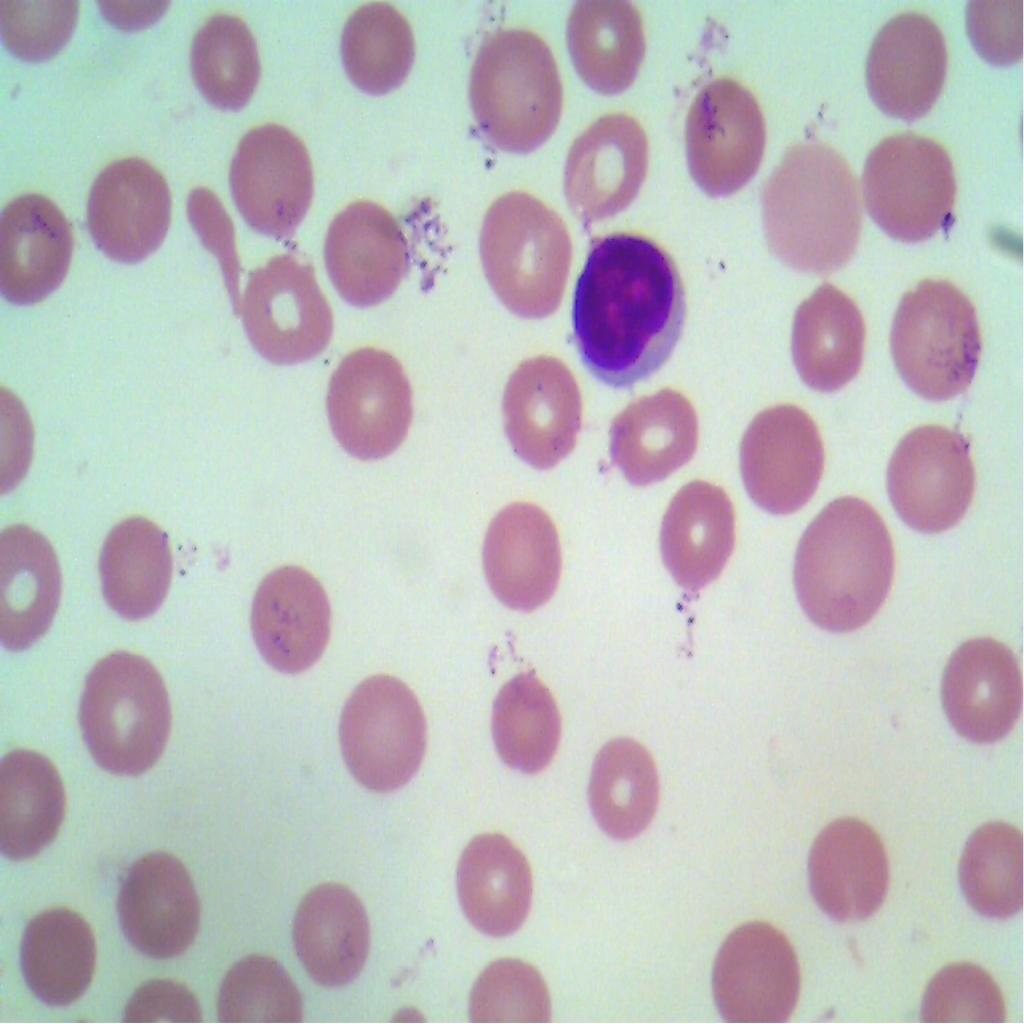Eritrosit: (758, 130, 868, 284), (786, 500, 896, 642), (670, 62, 770, 208), (239, 550, 341, 688), (459, 24, 563, 158), (859, 128, 966, 257), (470, 189, 574, 321), (328, 663, 430, 797), (469, 494, 573, 624), (288, 874, 390, 1000), (80, 648, 178, 778), (230, 250, 340, 364), (893, 271, 984, 408), (76, 154, 179, 275), (730, 398, 836, 515), (330, 338, 422, 471), (433, 815, 539, 930), (562, 98, 651, 234), (496, 354, 591, 478), (311, 195, 422, 299), (796, 815, 901, 924), (876, 424, 976, 534), (218, 122, 316, 234), (110, 847, 208, 958), (11, 908, 114, 1012), (473, 664, 570, 774), (0, 524, 78, 660), (786, 278, 876, 395), (938, 632, 1023, 754), (712, 903, 798, 1023), (0, 184, 79, 314), (0, 745, 78, 873), (859, 12, 948, 124), (658, 478, 743, 592), (94, 515, 182, 624), (599, 384, 699, 477), (558, 0, 656, 94), (584, 727, 670, 831), (184, 12, 268, 118), (451, 941, 549, 1023), (955, 812, 1023, 930), (338, 0, 418, 94), (918, 947, 1009, 1023)
Limfosit: (564, 224, 698, 395)
